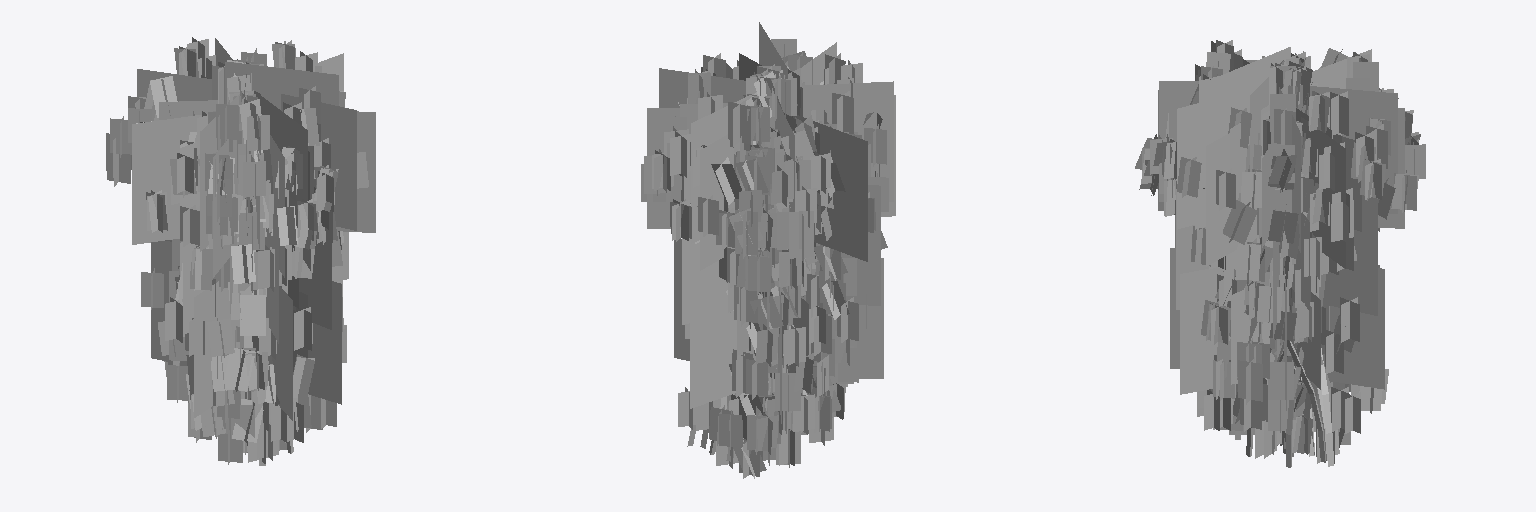
The model's file is violet_tree-obj.obj.
3 views of the same model, side by side, from view 1: azimuth 30°, elevation 25°; view 2: azimuth 150°, elevation 25°; view 3: azimuth 270°, elevation 25° (orthographic).
Visible parts, largest first — view 1: violet_tree; view 2: violet_tree; view 3: violet_tree.
Boxes of the visible parts, <box> form: violet_tree: <box>106,37,375,465</box>; violet_tree: <box>641,22,895,478</box>; violet_tree: <box>1135,40,1425,467</box>.
Bounding box in the file's own units: 58.69 × 98.56 × 66.09.